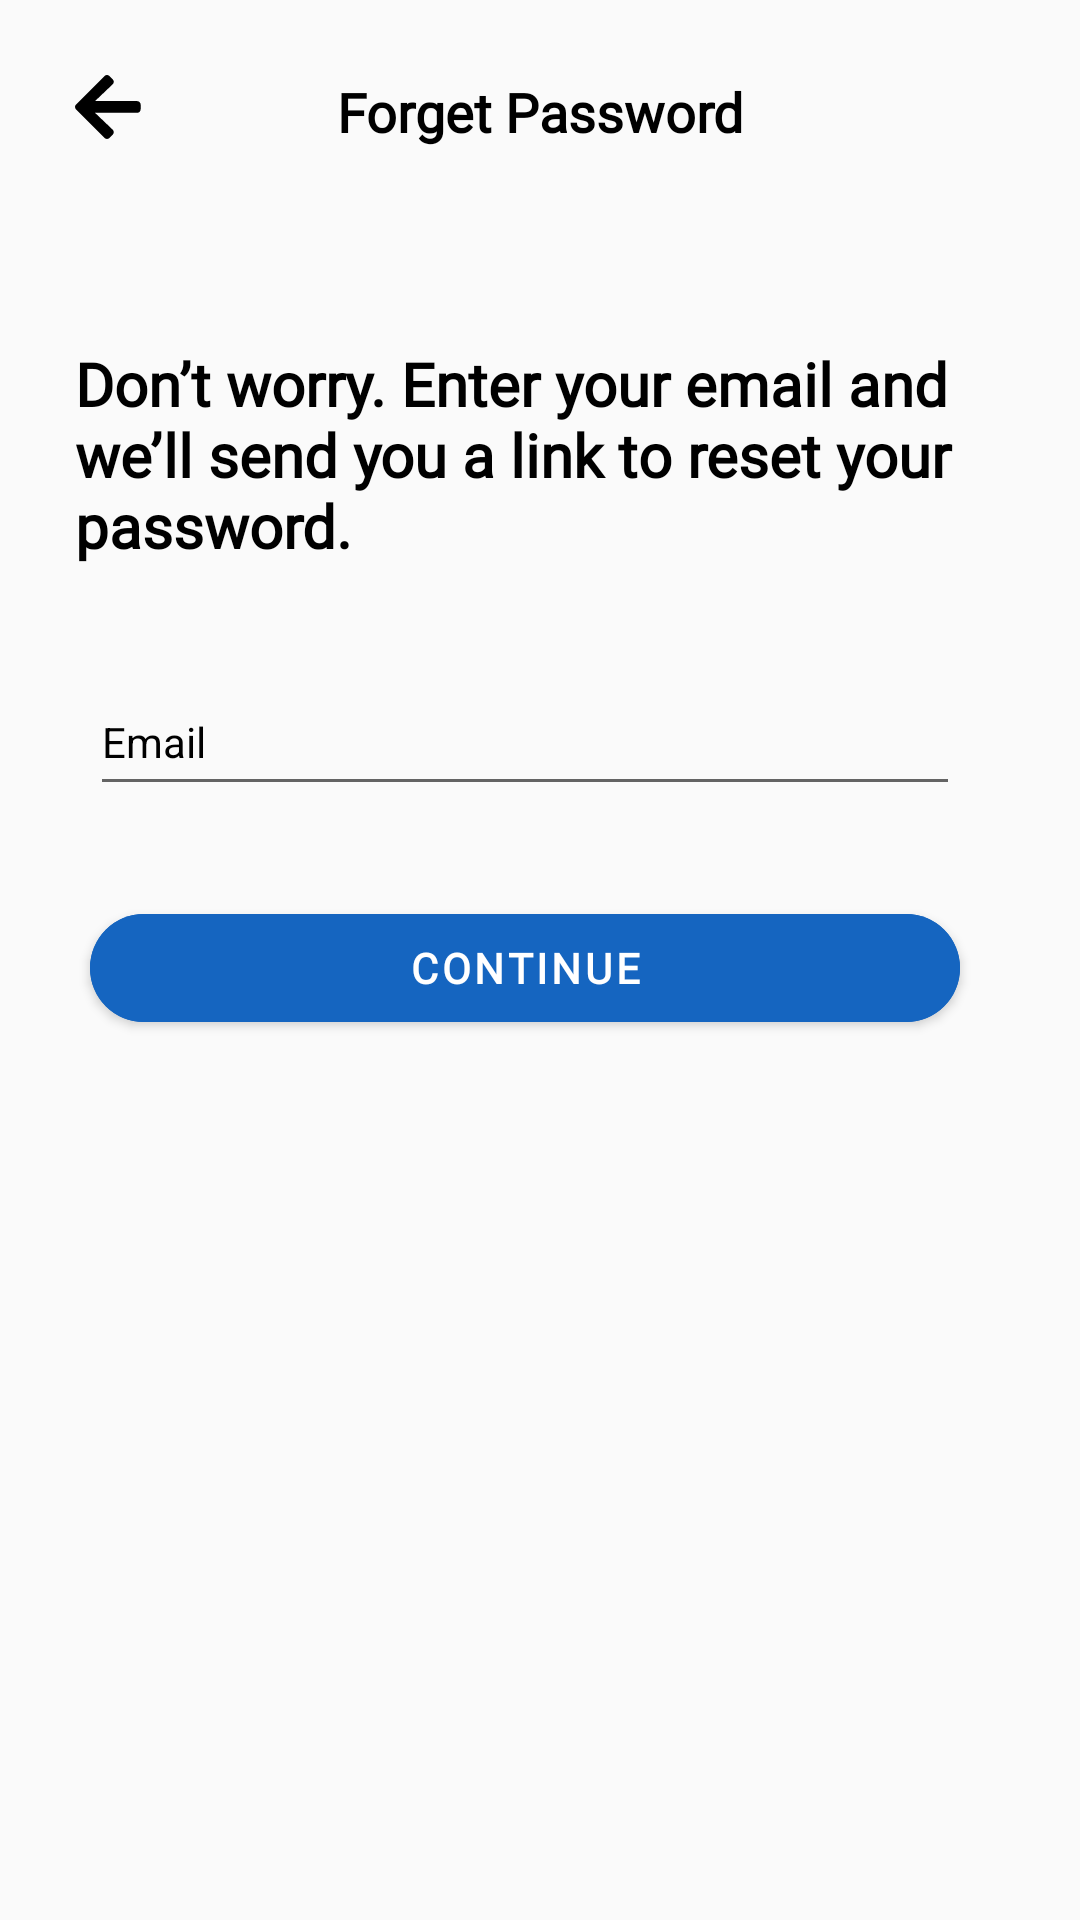

Where icons sit on this 1080 x 1920 app screen, as rect(x1, y1, x2, y2):
back arrow: rect(75, 75, 141, 139)
